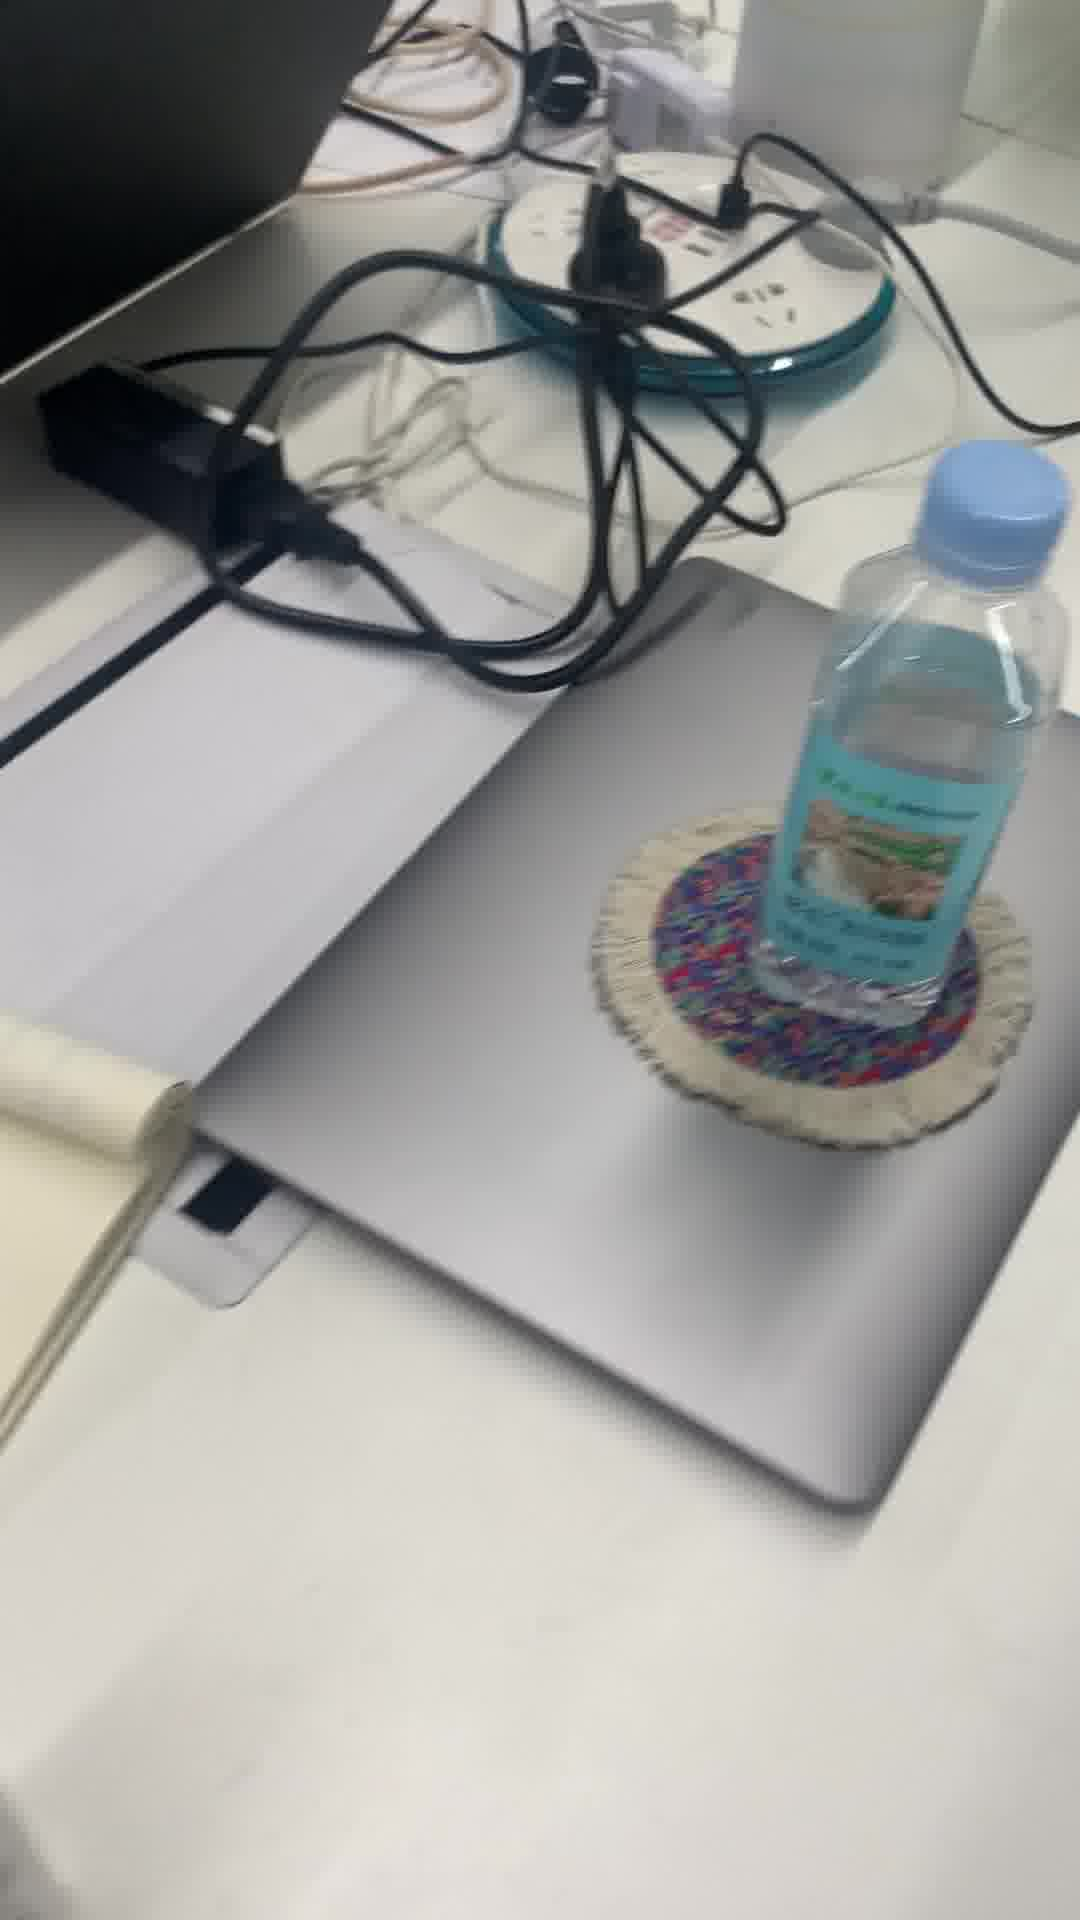水瓶: (756, 439, 1065, 1039)
